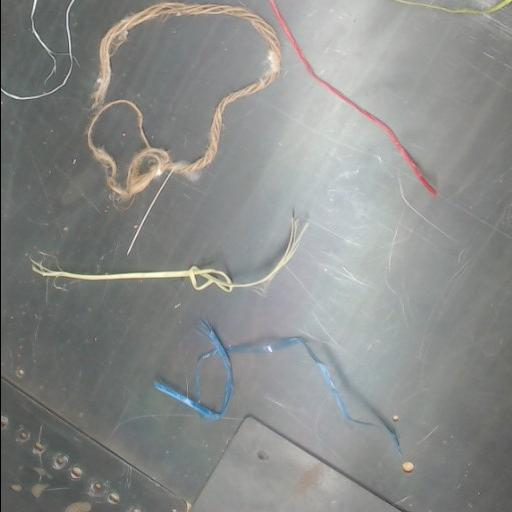conveyor belt: (1, 0, 512, 511), (105, 16, 267, 162)
jute: (86, 2, 280, 198)
thread: (268, 0, 435, 196), (155, 321, 376, 425), (32, 216, 306, 291), (323, 346, 400, 454), (1, 0, 74, 99), (31, 0, 56, 79), (392, 0, 512, 15)
